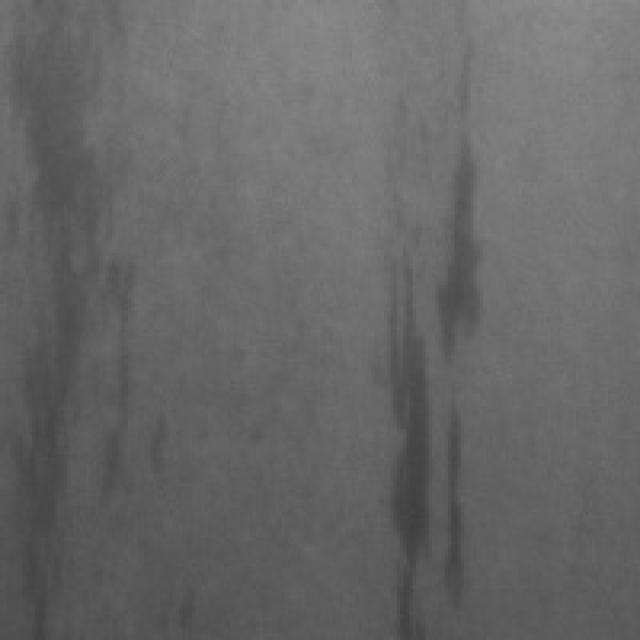inclusion: (0, 6, 138, 628), (374, 35, 480, 634), (80, 339, 176, 515)
